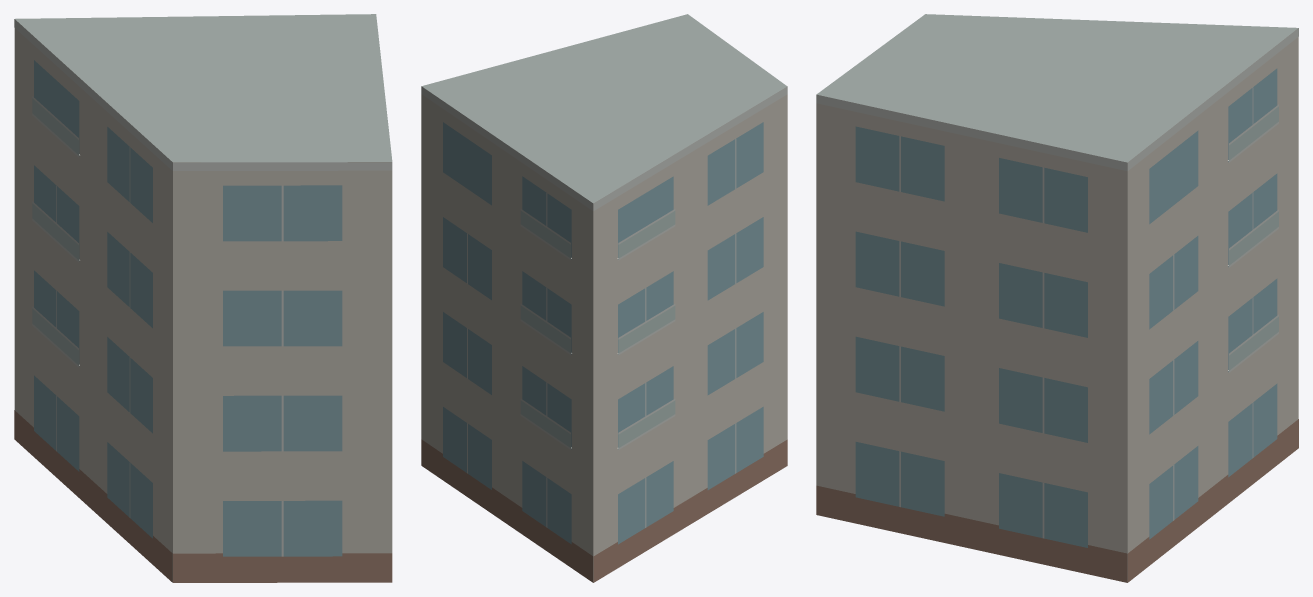
File: survey-upis-32873081.glb
3 renders of one model, left to right at view 1: azimuth 30°, elevation 25°; view 2: azimuth 150°, elevation 25°; view 3: azimuth 270°, elevation 25°, orthographic. The views are drawn at different scales.
Parts seen in each view (by area): view 1: survey-upis-32873081.tmp; view 2: survey-upis-32873081.tmp; view 3: survey-upis-32873081.tmp.
Boxes of the visible parts, x1,y1,x2,y2 form: survey-upis-32873081.tmp: [14, 14, 392, 582]; survey-upis-32873081.tmp: [421, 14, 787, 582]; survey-upis-32873081.tmp: [816, 14, 1298, 582].
Size of the model in its own units: 8.95 by 11.8 by 12.28.
